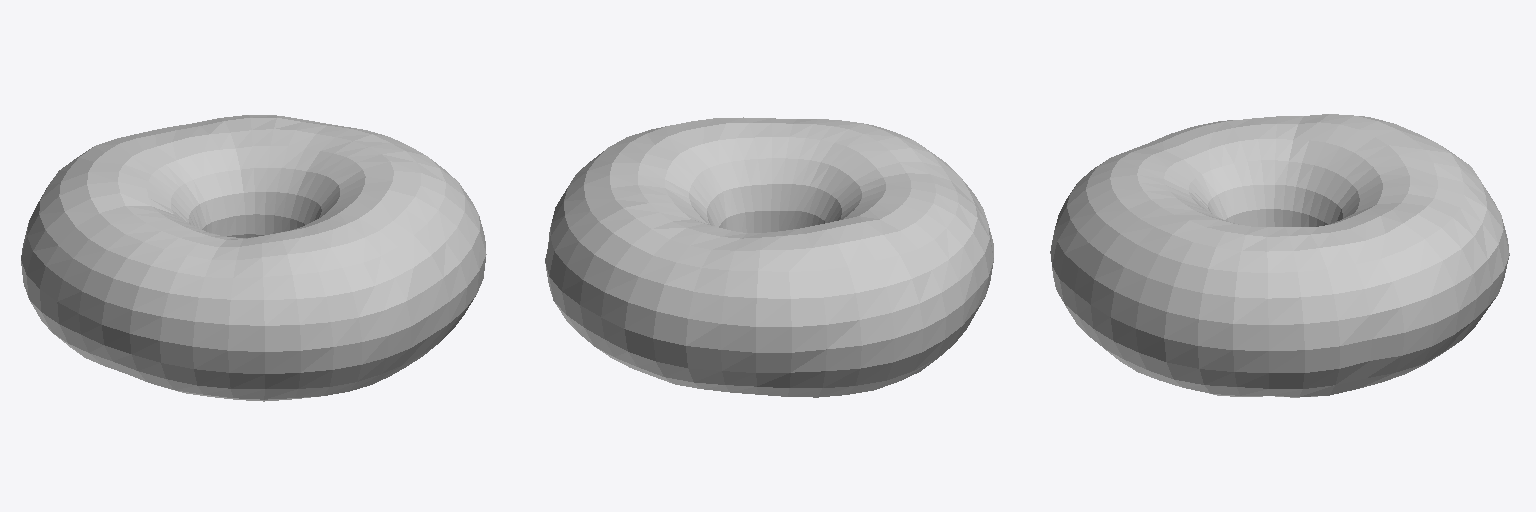
The model's file is FirstDonut.obj.
3 renders of one model, left to right at view 1: azimuth 30°, elevation 25°; view 2: azimuth 150°, elevation 25°; view 3: azimuth 270°, elevation 25°, orthographic.
Parts seen in each view (by area): view 1: Torus.001; view 2: Torus.001; view 3: Torus.001.
Part boxes in pixels (bbox=[...]): Torus.001: bbox=[21, 115, 486, 401]; Torus.001: bbox=[545, 117, 993, 397]; Torus.001: bbox=[1050, 114, 1509, 397].
Bounding box in the file's own units: 0.9902 × 0.3782 × 0.9975.